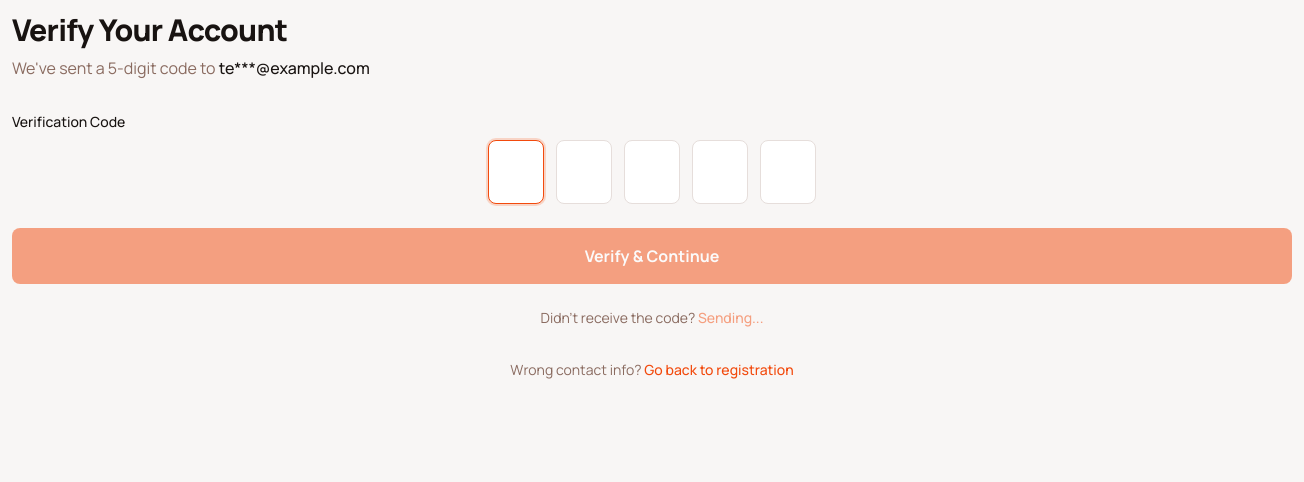
VerifyPage › form submission › shows error and clears inputs on verification failure
The image size is (1304, 482).
# Fill OTP using fireEvent.change (simulates paste)
Type "12345" into the field with test id "verify-otp-input-0" at (516, 172), box [488,140,544,204]
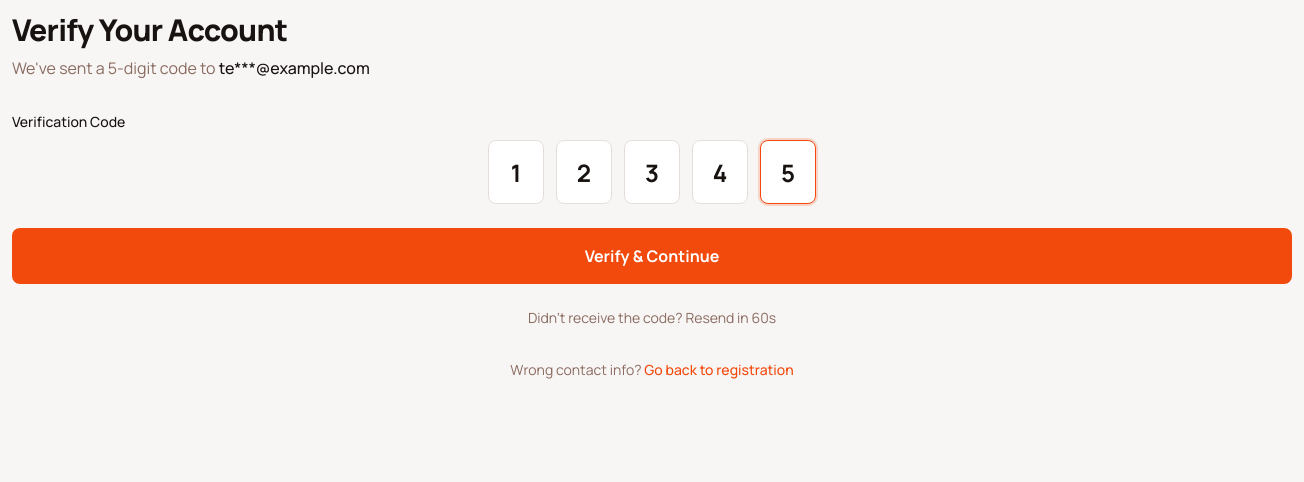
Click the button with test id "verify-submit-button" at (652, 256), box [12,228,1292,284]
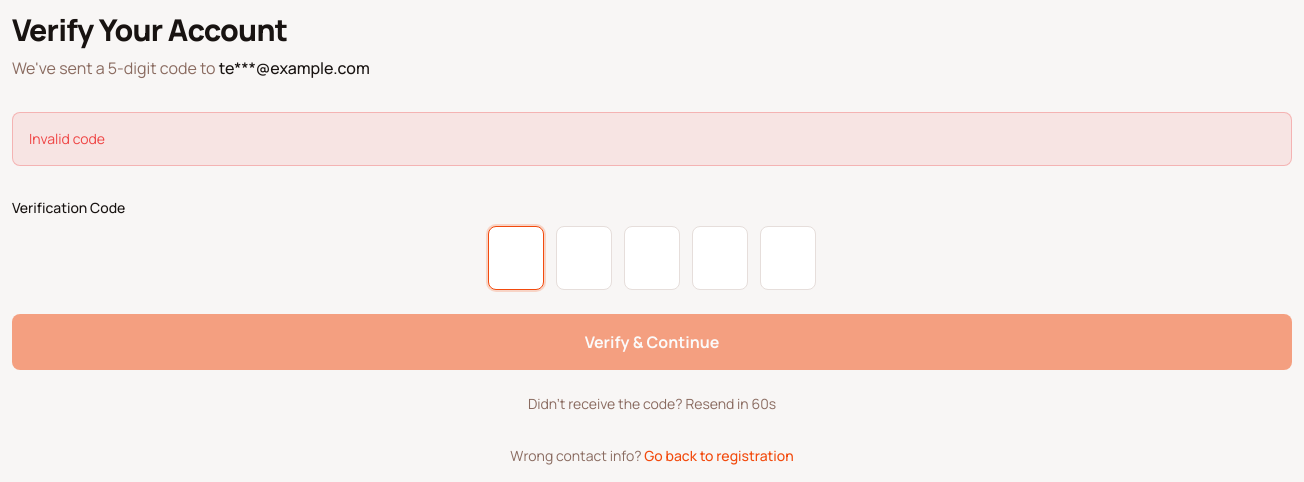
expect the text with test id "verify-error" reads "Invalid code": met, box [29,129,105,148]
expect the field with test id "verify-otp-input-0" is empty: met, box [488,226,544,290]
